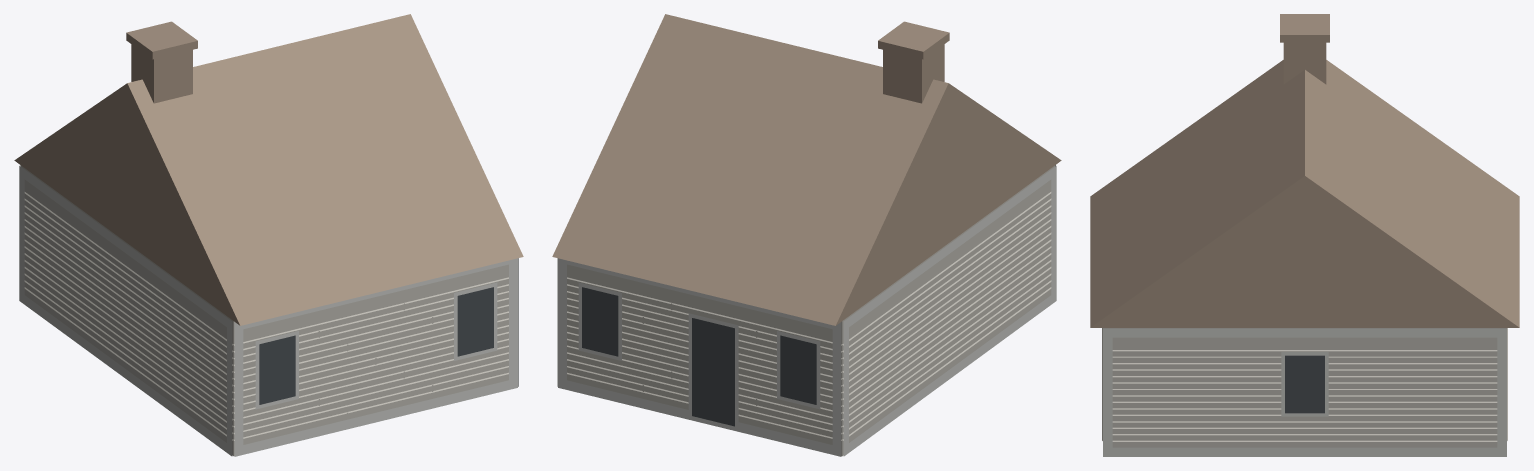
File: recon_1835_north_d4_004__inferred_1835.glb
3 renders of one model, left to right at view 1: azimuth 30°, elevation 25°; view 2: azimuth 150°, elevation 25°; view 3: azimuth 270°, elevation 25°, orthographic. The views are drawn at different scales.
Visible parts, largest first — view 1: recon_1835_north_d4_004__inferred_1835; view 2: recon_1835_north_d4_004__inferred_1835; view 3: recon_1835_north_d4_004__inferred_1835.
Boxes of the visible parts, bbox=[...] form: recon_1835_north_d4_004__inferred_1835: bbox=[14, 14, 523, 456]; recon_1835_north_d4_004__inferred_1835: bbox=[552, 14, 1061, 456]; recon_1835_north_d4_004__inferred_1835: bbox=[1090, 14, 1519, 456].
Size of the model in its own units: 6.18 by 6.85 by 8.43.
